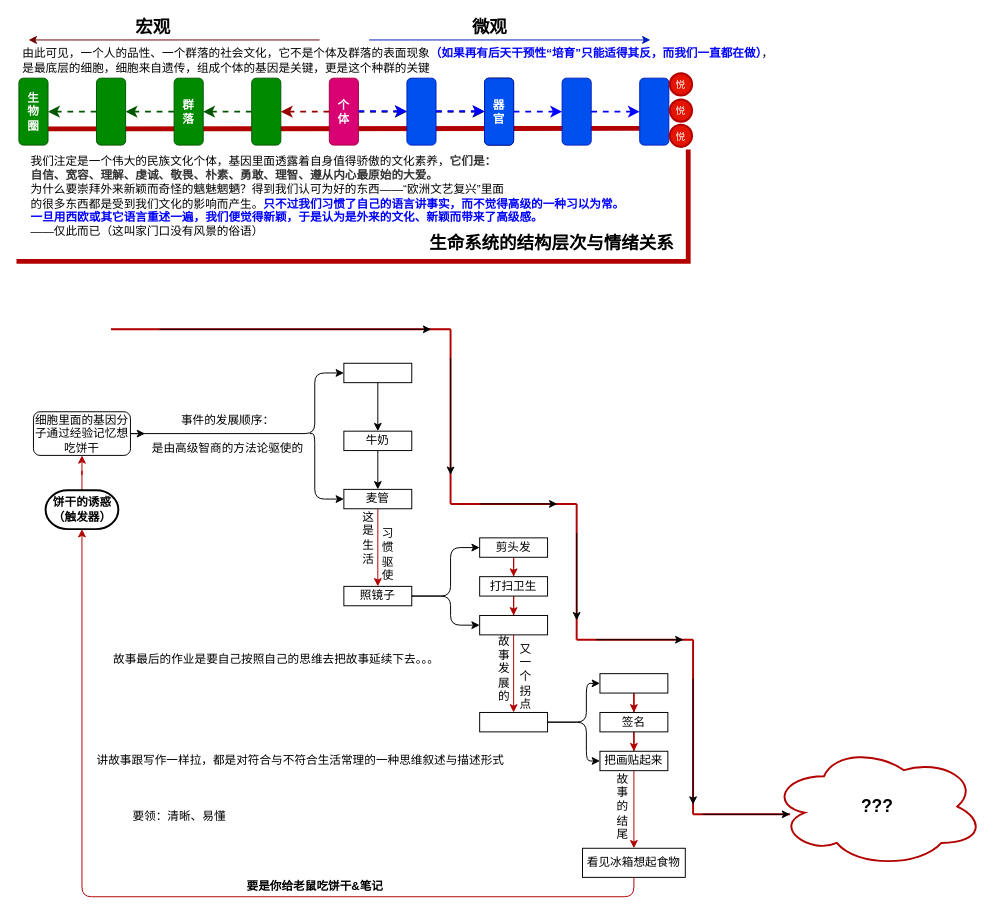
This 1002x922 diagram has some shape labels left out. The centre of each missing label's shape, as x and y in pixels:
听书看画: [513,721]
生 态 系 统: [111,111]
画画: [633,683]
种 群: [266,111]
系 统: [421,111]
累了睡觉: [513,624]
组 织: [576,111]
细 胞: [654,111]
饼干: [377,372]
